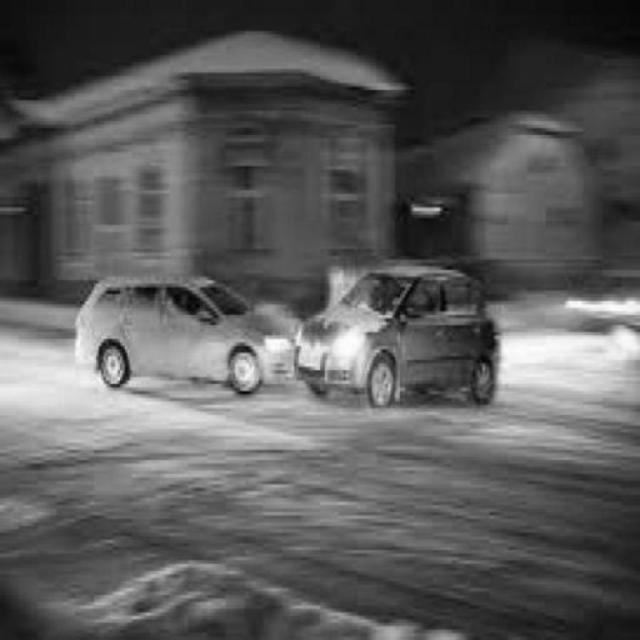accident: (79, 266, 505, 407)
